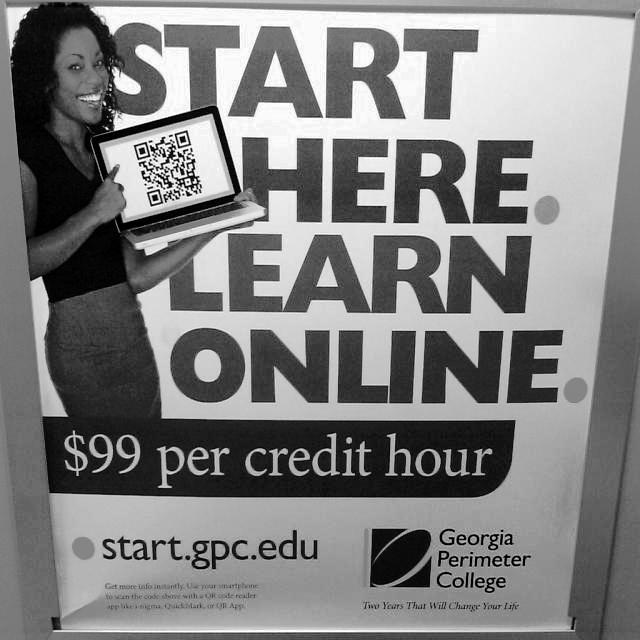qr_code: (134, 129, 205, 207)
